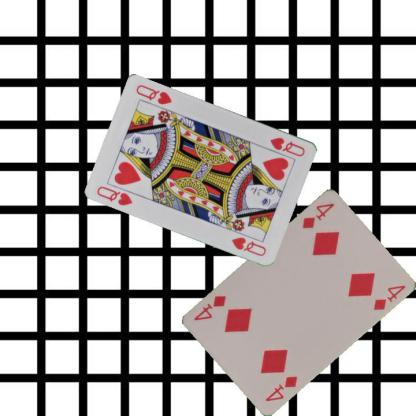4d: (299, 200, 336, 230), (263, 372, 299, 402)
Qh: (267, 134, 307, 158), (94, 183, 134, 207)
